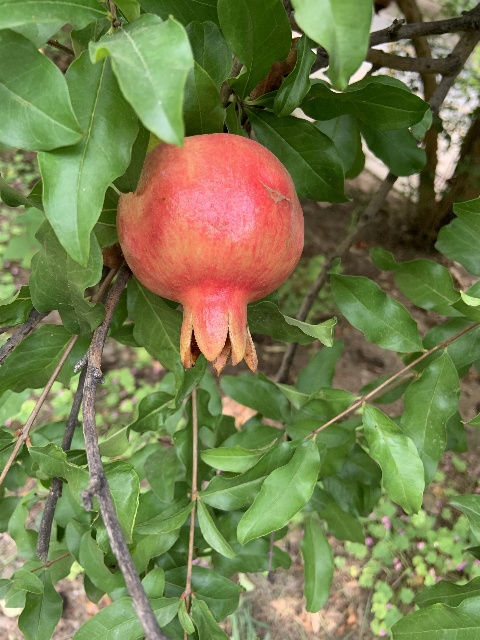ripe: (117, 131, 304, 374)
